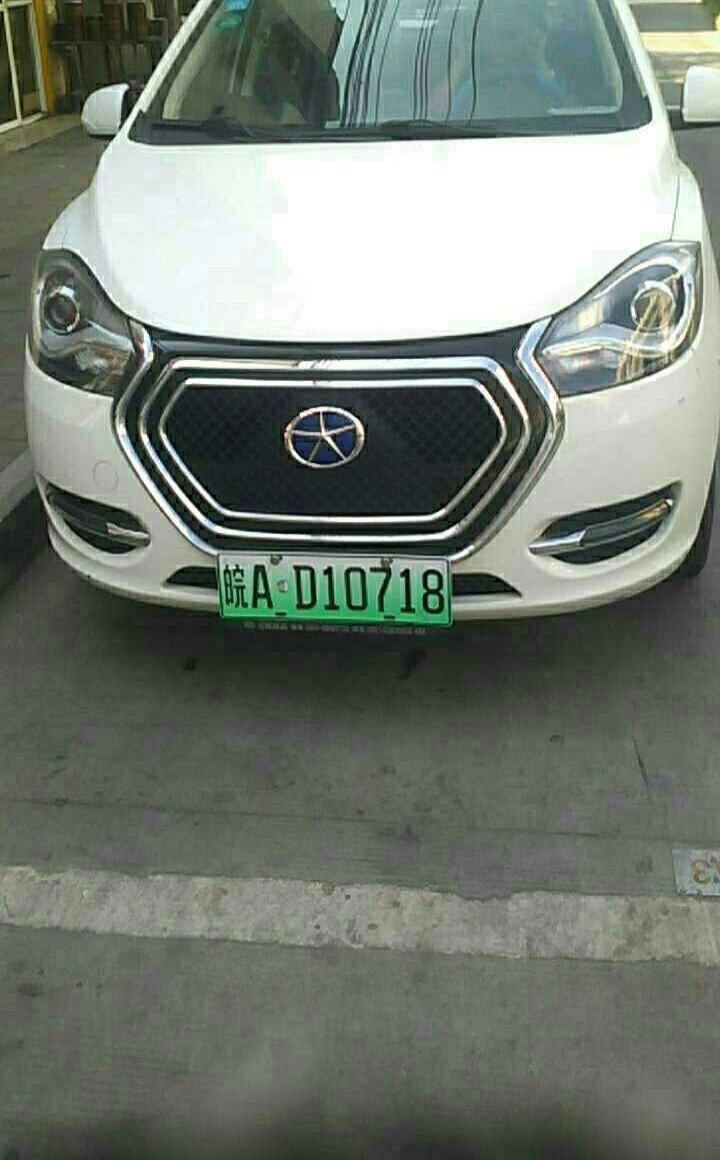car: (210, 548, 458, 626)
